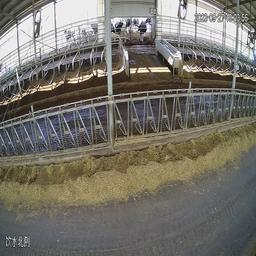cow: (111, 19, 131, 44), (137, 17, 150, 44)
